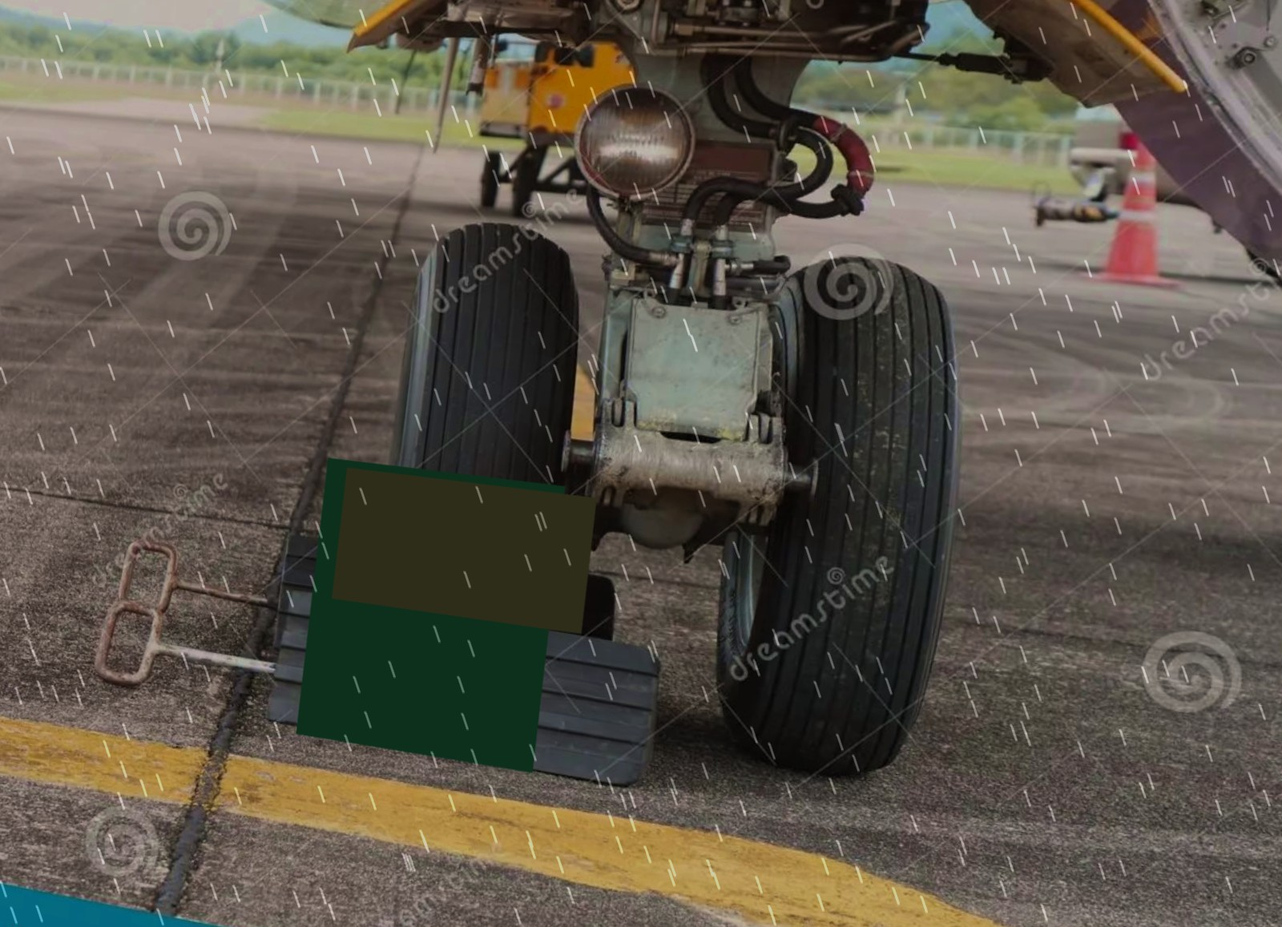chock: (262, 580, 673, 786), (266, 512, 628, 648)
wheel: (689, 235, 985, 780), (372, 199, 602, 630)
